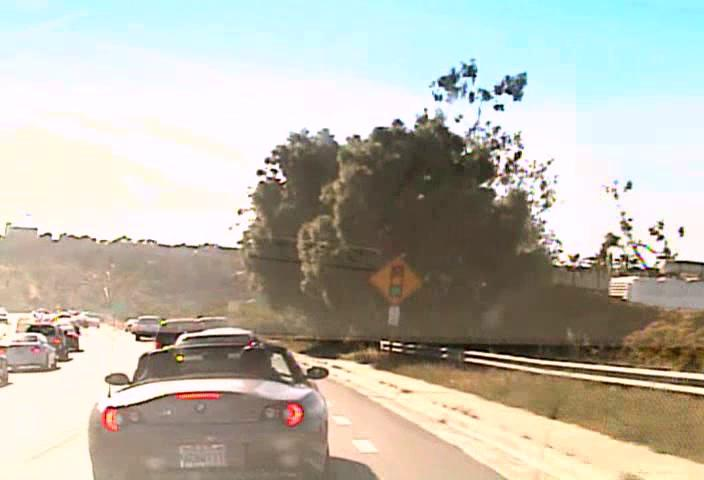signalAhead: (368, 254, 422, 304)
